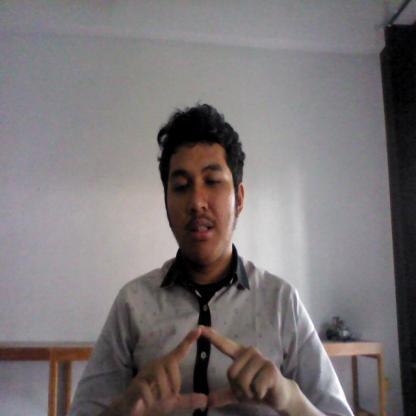A: (120, 322, 284, 412)
